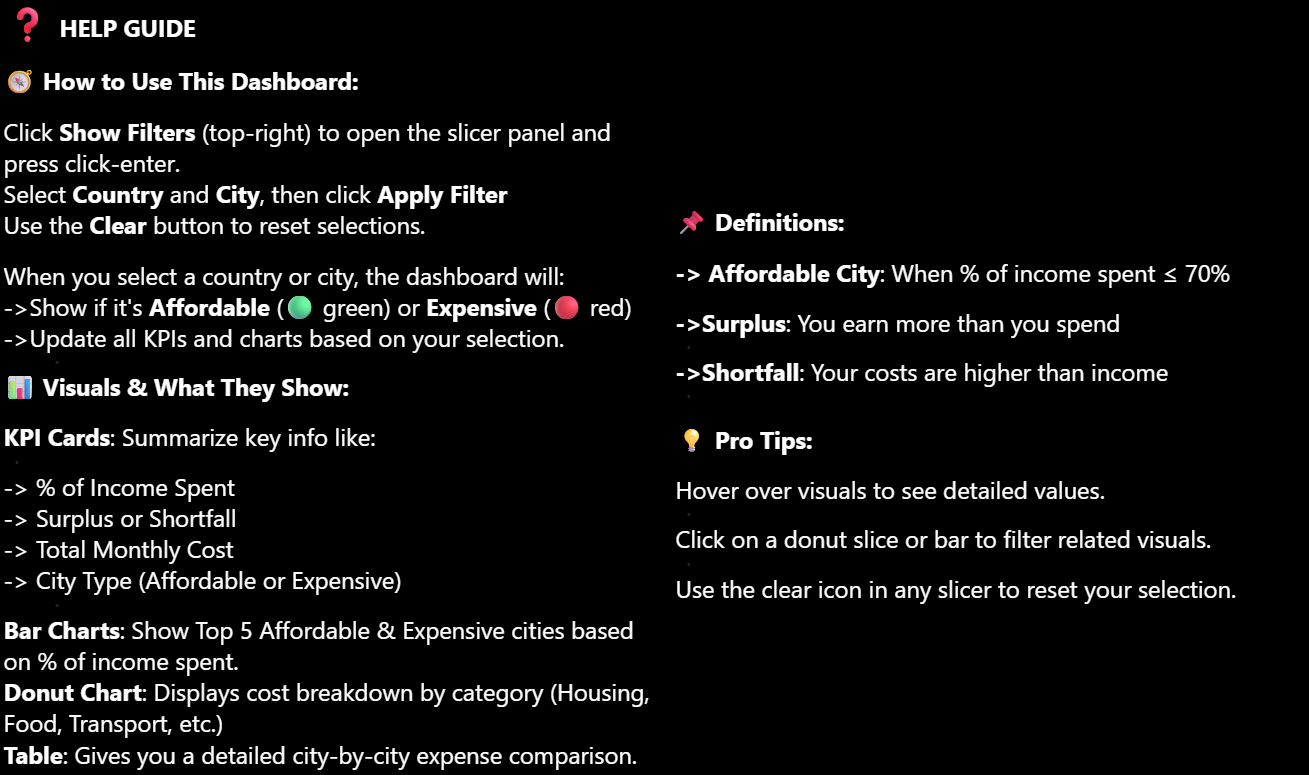

What the dashboard file says about the page in this screenshot:
{"tool":"powerbi","page":{"name":"Help","canvas":[1280,720],"ordinal":1},"visuals":[{"type":"textbox","box":[9.7,0,602.4,720.6],"z":0},{"type":"textbox","box":[612.1,186.2,602.4,409.7],"z":1000},{"type":"actionButton","box":[1198.2,11.3,82.6,93.9],"z":2000}]}

Visuals, with their boxes on the page's 1280x720 design canvas (x1, y1, x2, y2). These are canvas units, not pixel positions in the 1309x775 screenshot, which may show the page scaled, cropped or inside an application window:
textbox: [x1=10, y1=0, x2=612, y2=721]
textbox: [x1=612, y1=186, x2=1214, y2=596]
actionButton: [x1=1198, y1=11, x2=1281, y2=105]
